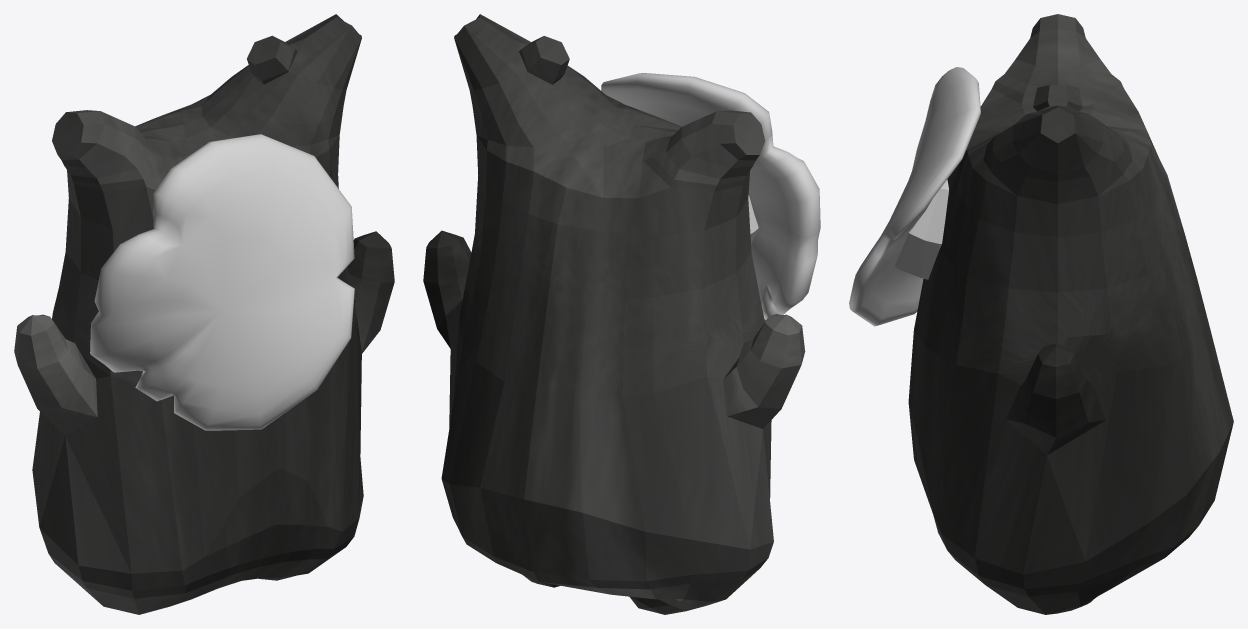
Rendered from frame_0060.obj.
The picture shows the model from 3 angles, left to right: view 1: azimuth 30°, elevation 25°; view 2: azimuth 150°, elevation 25°; view 3: azimuth 270°, elevation 25°; orthographic projection.
Parts seen in each view (by area): view 1: korok, leaf; view 2: korok, leaf; view 3: korok, leaf, nose.
Boxes of the visible parts, left/top/right/bottom form: korok: left=14, top=14, right=394, bottom=614; leaf: left=90, top=134, right=354, bottom=430; korok: left=423, top=14, right=805, bottom=614; leaf: left=601, top=73, right=820, bottom=321; korok: left=908, top=14, right=1233, bottom=614; leaf: left=849, top=67, right=980, bottom=326; nose: left=894, top=179, right=948, bottom=279.
Size of the model in its own units: 1.52 by 2.11 by 1.37.
